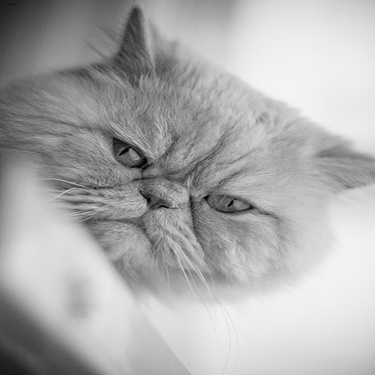cat: (3, 5, 371, 304)
